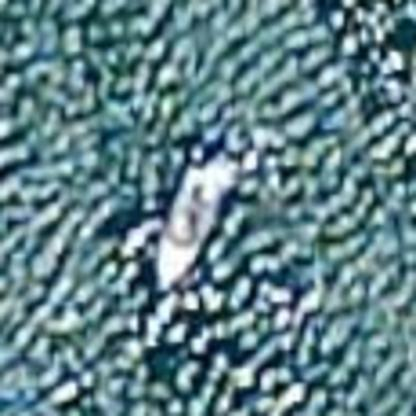ship: (138, 140, 247, 302)
